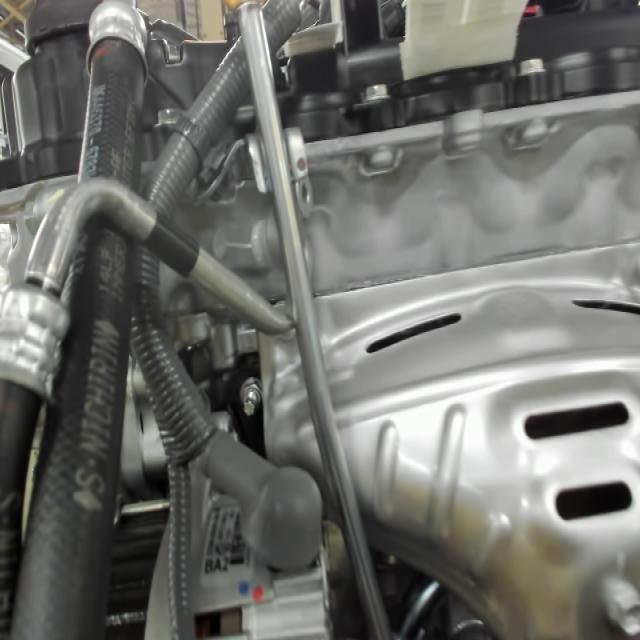Alternator-BA2: (200, 547, 238, 583)
Hose Discharge-HT: (133, 204, 205, 290)
